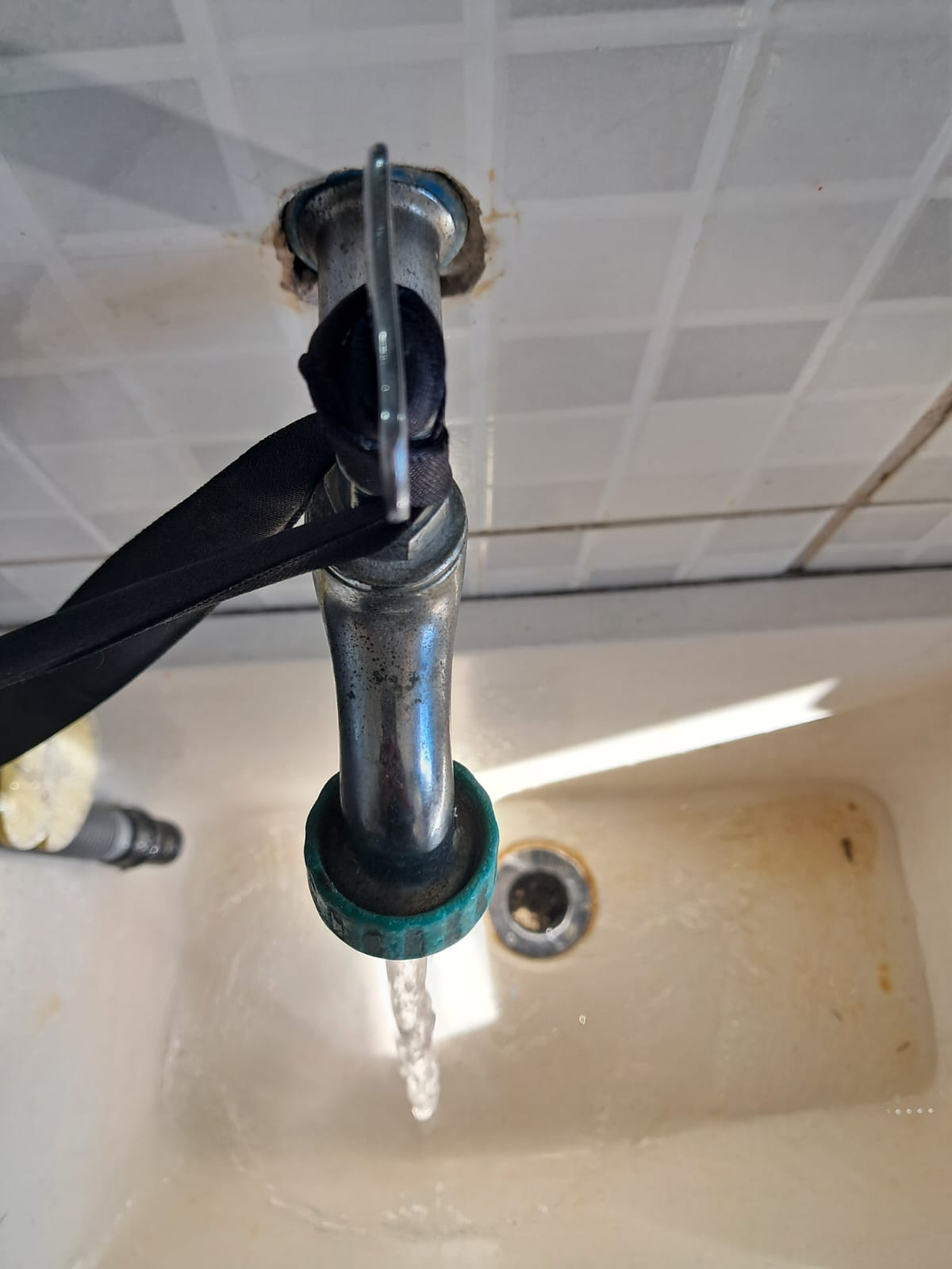torneira_aberta: (250, 128, 546, 1153)
